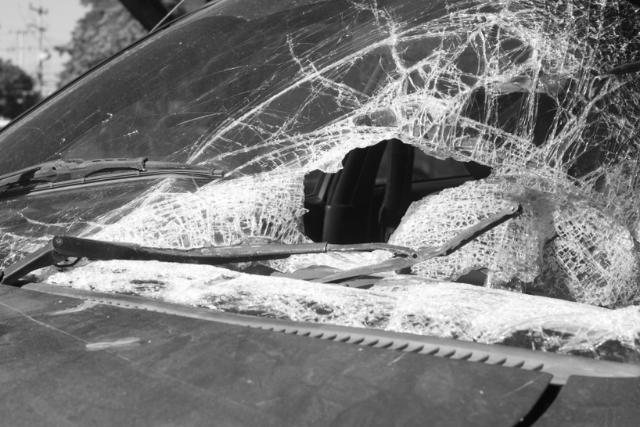Windshield: (12, 2, 640, 294)
